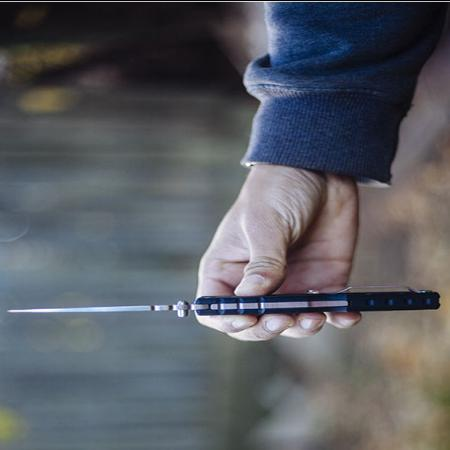long weapon: (4, 282, 443, 346)
